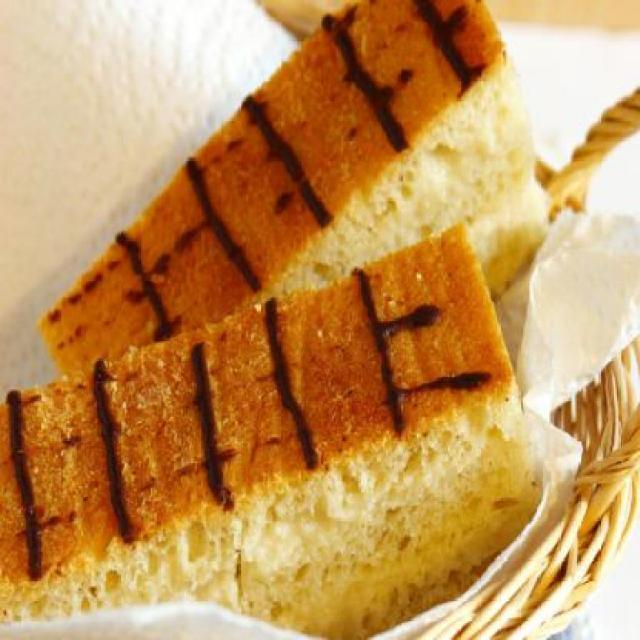Merendine packaged: (2, 220, 550, 640), (36, 1, 529, 380)
